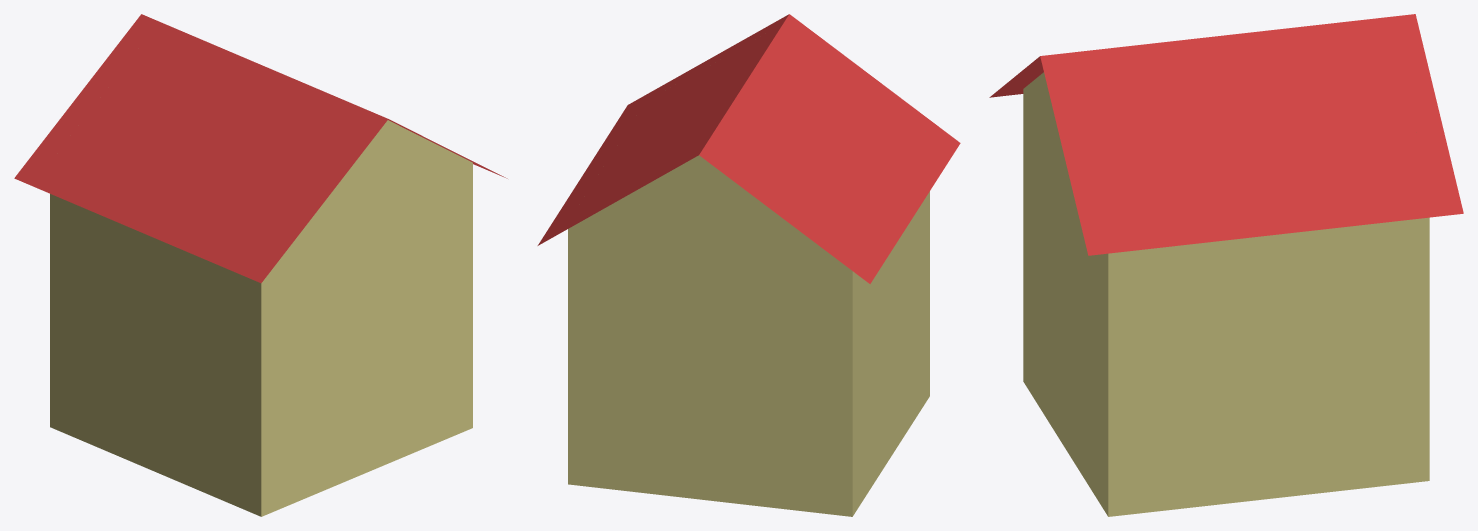
3 views of the same model, side by side, from view 1: azimuth 30°, elevation 25°; view 2: azimuth 150°, elevation 25°; view 3: azimuth 270°, elevation 25° (orthographic). The views are drawn at different scales.
Visible parts, largest first — view 1: group_5, group_3, group_4; view 2: group_5, group_3, group_4; view 3: group_5, group_3, group_4.
Part boxes in pixels (bbox=[...]): group_5: bbox=[50, 120, 472, 516]; group_3: bbox=[50, 21, 507, 282]; group_4: bbox=[14, 14, 387, 282]; group_5: bbox=[568, 155, 929, 516]; group_3: bbox=[568, 14, 929, 283]; group_4: bbox=[537, 14, 960, 283]; group_5: bbox=[1023, 72, 1429, 516]; group_3: bbox=[989, 14, 1429, 255]; group_4: bbox=[1036, 14, 1463, 255].
Bounding box in the file's own units: 12.66 × 12.69 × 11.76.
